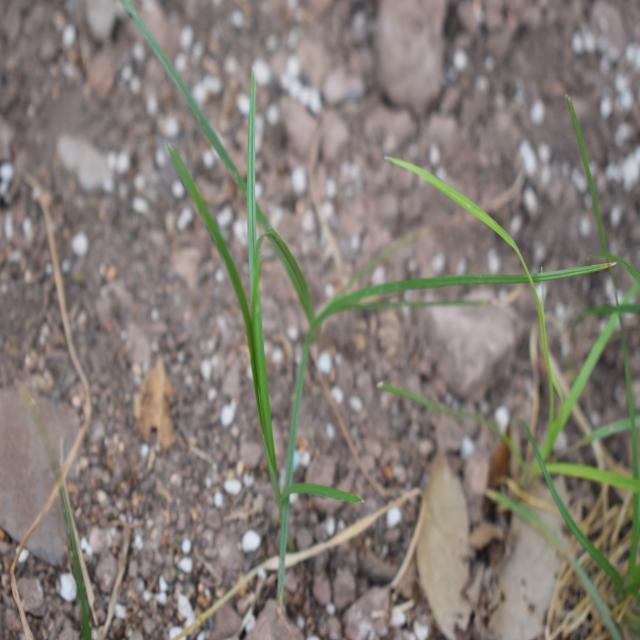sedge: (115, 1, 541, 541)
